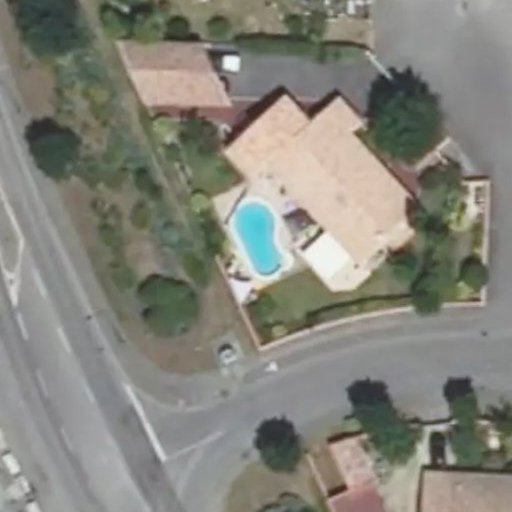pool: (228, 205, 283, 279)
